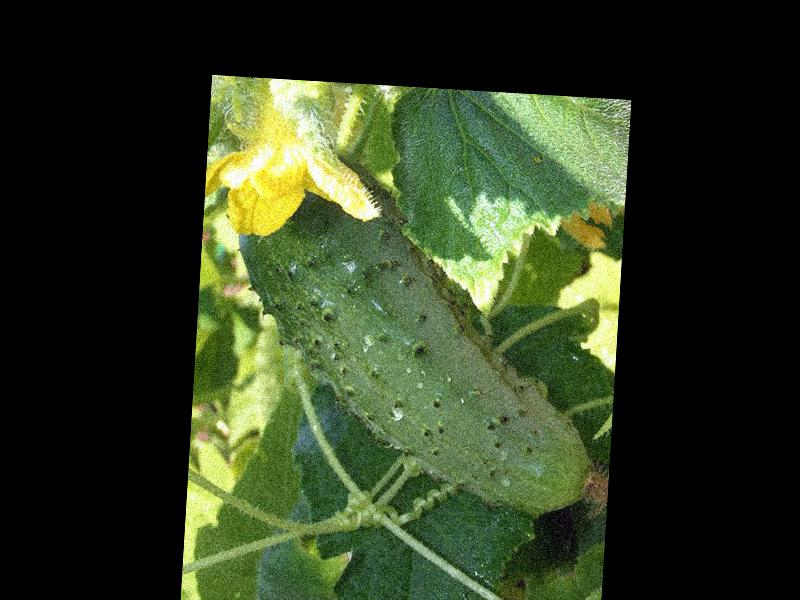Cucumber: (223, 147, 626, 519)
